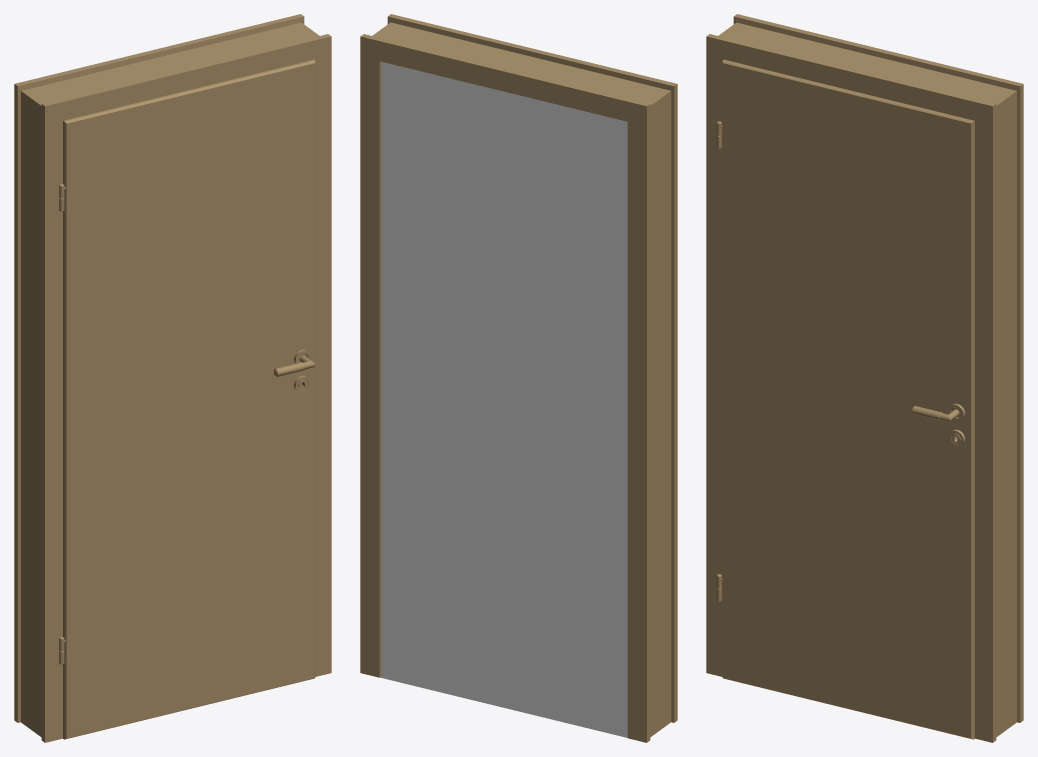
The model's file is door.gltf.
3 views of the same model, side by side, from view 1: azimuth 30°, elevation 25°; view 2: azimuth 150°, elevation 25°; view 3: azimuth 330°, elevation 25° (orthographic).
Parts seen in each view (by area): view 1: door, frame; view 2: Door_Plane, frame; view 3: door, frame.
Boxes of the visible parts, left/top/right/bottom form: door: left=59, top=59, right=315, bottom=739; frame: left=14, top=14, right=331, bottom=742; Door_Plane: left=380, top=62, right=627, bottom=737; frame: left=360, top=14, right=677, bottom=742; door: left=716, top=59, right=974, bottom=739; frame: left=706, top=14, right=1023, bottom=742.
Size of the model in its own units: 0.0485 by 0.1033 by 0.013.
